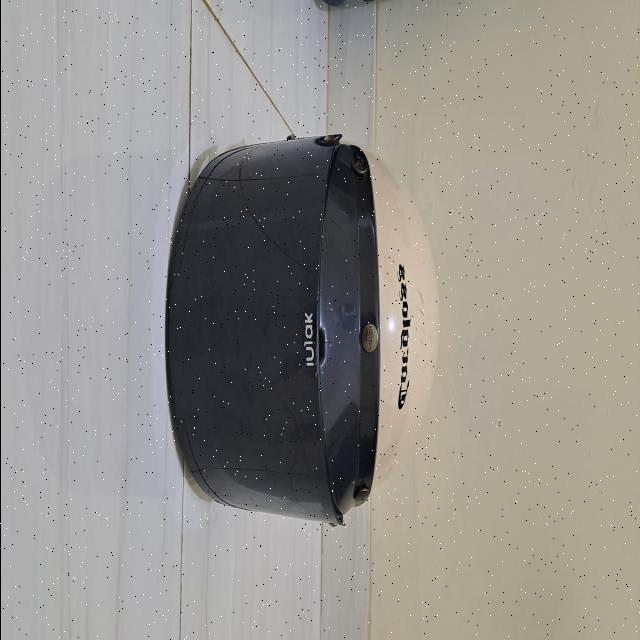Helm: (152, 122, 442, 534)
